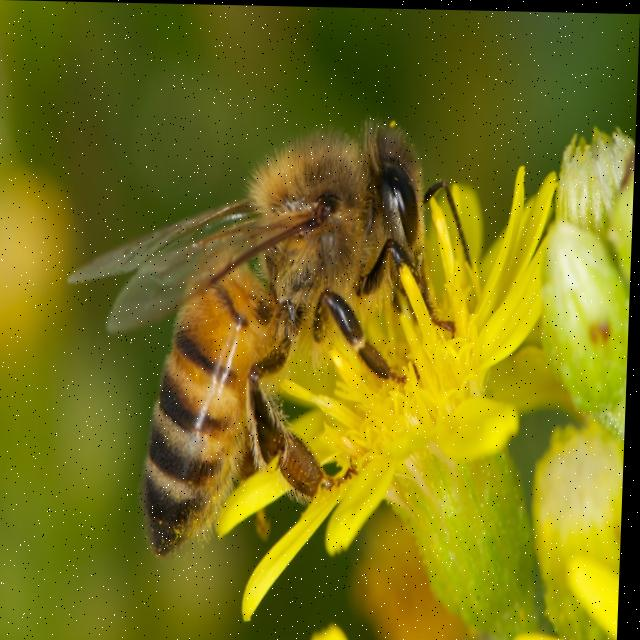Apis-mellifera-scutellata: (77, 80, 442, 556)
